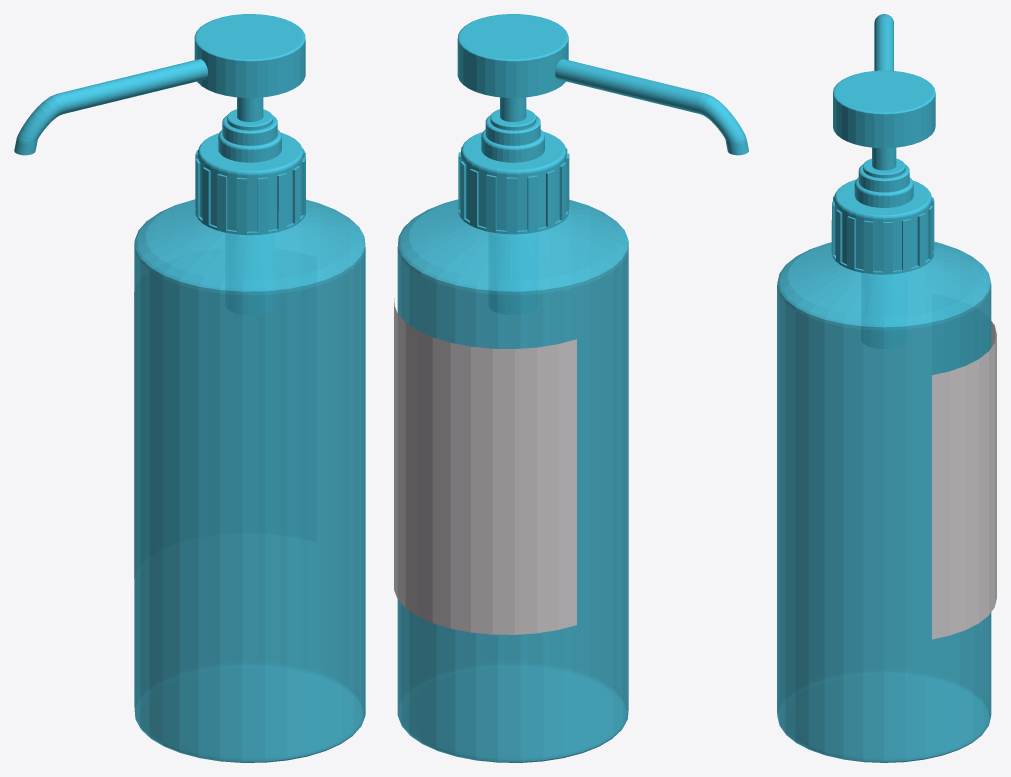
Rendered from gel.fbx.
3 renders of one model, left to right at view 1: azimuth 30°, elevation 25°; view 2: azimuth 150°, elevation 25°; view 3: azimuth 270°, elevation 25°, orthographic. The views are drawn at different scales.
Visible parts, largest first — view 1: Cylinder.006, Cylinder.001, Cylinder, Cylinder.003, Cylinder.002; view 2: Cylinder.006, Cylinder.005, Cylinder.001, Cylinder, Cylinder.003, Cylinder.002; view 3: Cylinder.006, Cylinder.005, Cylinder.001, Cylinder, Cylinder.003, Cylinder.002.
Boxes of the visible parts, left/top/right/bottom form: Cylinder.006: left=134, top=199, right=365, bottom=762; Cylinder.001: left=195, top=109, right=305, bottom=314; Cylinder: left=194, top=14, right=305, bottom=97; Cylinder.003: left=14, top=59, right=207, bottom=155; Cylinder.002: left=237, top=97, right=263, bottom=121; Cylinder.006: left=397, top=199, right=628, bottom=762; Cylinder.005: left=394, top=298, right=576, bottom=634; Cylinder.001: left=458, top=109, right=569, bottom=314; Cylinder: left=457, top=14, right=568, bottom=97; Cylinder.003: left=555, top=59, right=748, bottom=155; Cylinder.002: left=500, top=97, right=526, bottom=121; Cylinder.006: left=777, top=241, right=991, bottom=762; Cylinder.005: left=932, top=321, right=996, bottom=639; Cylinder.001: left=831, top=158, right=934, bottom=348; Cylinder: left=833, top=70, right=935, bottom=148; Cylinder.003: left=874, top=14, right=893, bottom=70; Cylinder.002: left=872, top=147, right=896, bottom=170.
Size of the model in its own units: 223 by 432 by 137.
